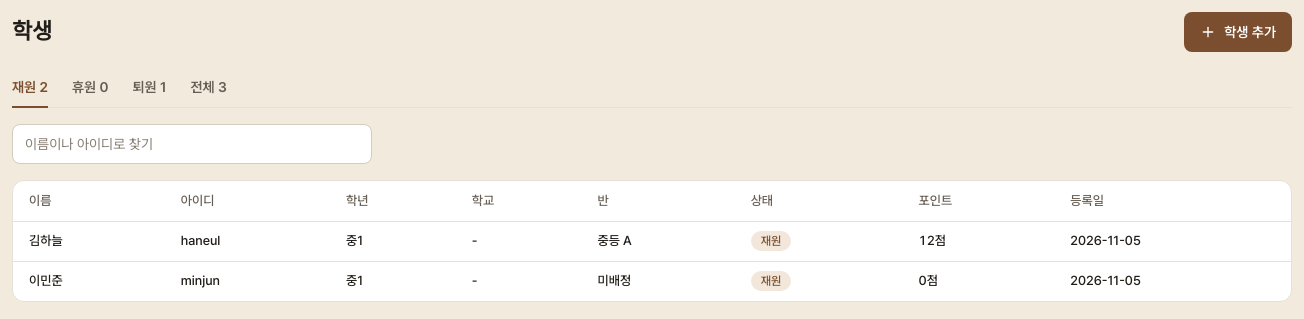
Test: StudentListScreen › switches tabs and searches
Click the tab "퇴원 1" at (150, 88), box 132,68 -> 166,108
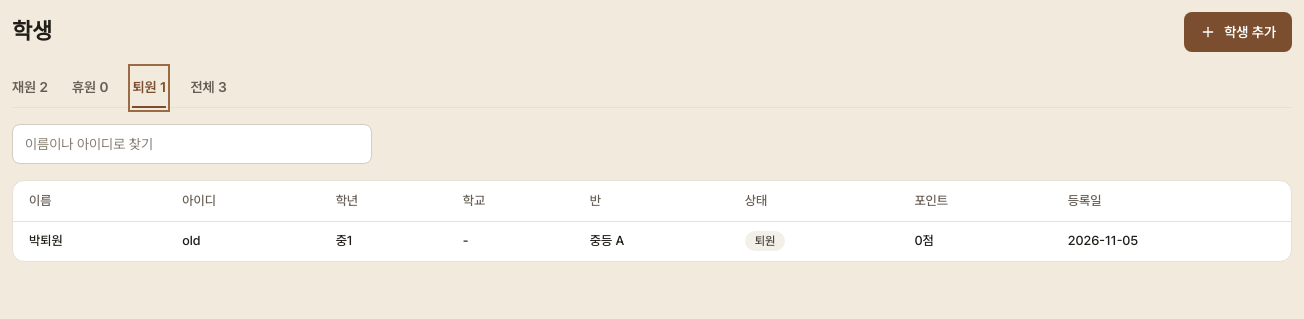
Expected: the number of rows is 2, 13,181 -> 1291,221; 13,221 -> 1291,261
Click the tab "재원 2" at (30, 88), box 12,68 -> 48,108
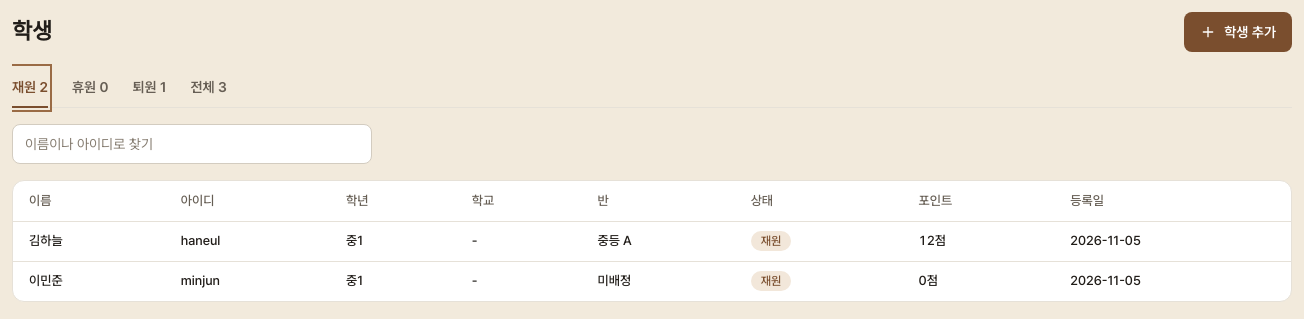
Type "minjun" into the field with placeholder "이름이나 아이디로 찾기" at (192, 144), box 12,124 -> 372,164
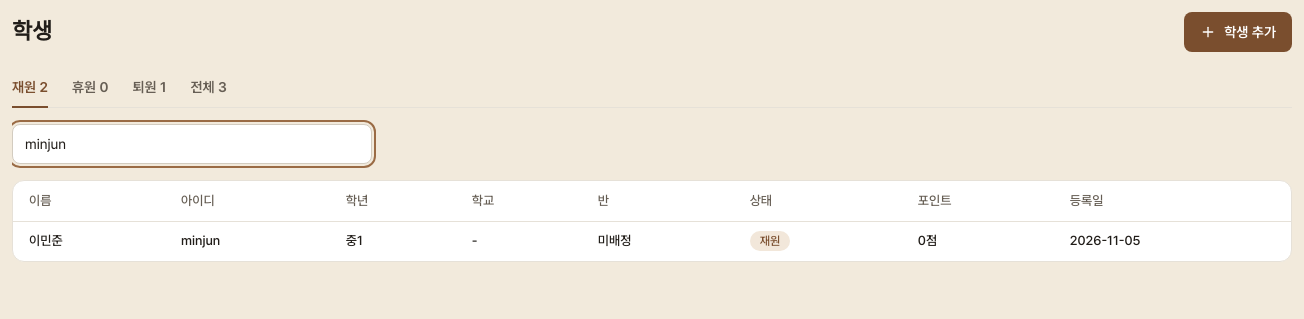
Expected: the number of rows is 2, 13,181 -> 1291,221; 13,221 -> 1291,261
Replace the text in the field with placeholder "이름이나 아이디로 찾기" with "zzz" at (192, 144), box 12,124 -> 372,164
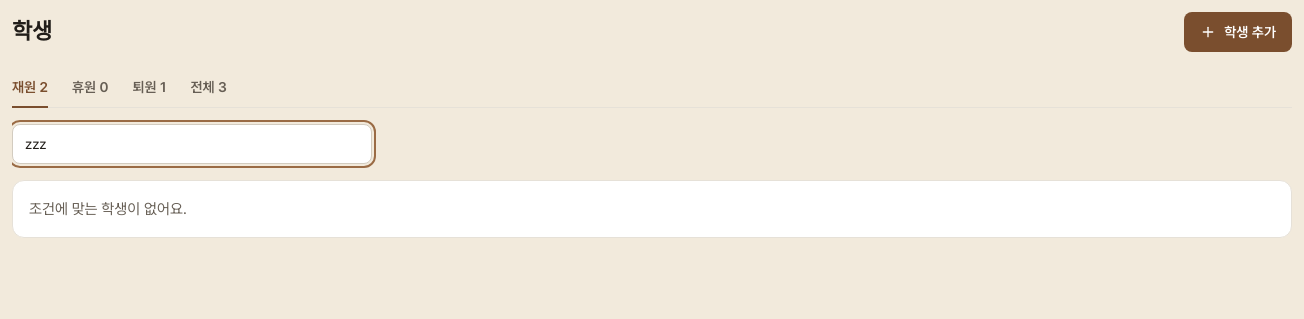
Expected: the text "조건에 맞는 학생이 없어요." is shown, 29,200 -> 187,218
